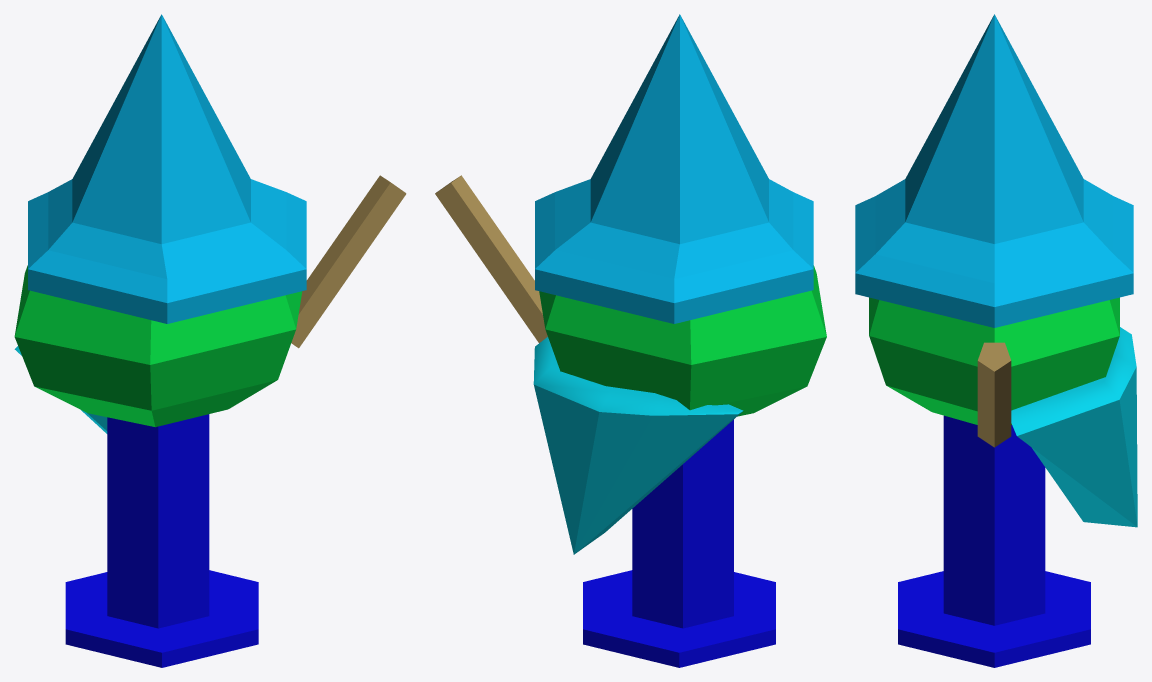
Rendered from magical potatoe statue.fbx.
3 views of the same model, side by side, from view 1: azimuth 30°, elevation 25°; view 2: azimuth 150°, elevation 25°; view 3: azimuth 270°, elevation 25° (orthographic).
Visible parts, largest first — view 1: pCone2, hat1, pasted__pasted__pasted__pasted__stick1, pasted__pasted__pasted__pasted__stick, pCylinder7; view 2: pCone2, hat1, pCone3, pasted__pasted__pasted__pasted__stick1, pasted__pasted__pasted__pasted__stick, pCylinder7; view 3: pCone2, hat1, pasted__pasted__pasted__pasted__stick1, pCone3, pasted__pasted__pasted__pasted__stick, pCylinder7.
Boxes of the visible parts, x1,y1,x2,y2 form: pCone2: (28, 14, 306, 323); hat1: (14, 265, 302, 427); pasted__pasted__pasted__pasted__stick1: (107, 414, 209, 628); pasted__pasted__pasted__pasted__stick: (65, 570, 258, 667); pCylinder7: (291, 175, 406, 348); pCone2: (535, 14, 813, 323); hat1: (539, 265, 826, 416); pCone3: (533, 337, 743, 554); pasted__pasted__pasted__pasted__stick1: (632, 419, 733, 628); pasted__pasted__pasted__pasted__stick: (583, 570, 775, 667); pCylinder7: (435, 175, 547, 342); pCone2: (855, 14, 1133, 327); hat1: (869, 297, 1119, 424); pasted__pasted__pasted__pasted__stick1: (943, 415, 1045, 625); pCone3: (1011, 327, 1137, 527); pasted__pasted__pasted__pasted__stick: (898, 571, 1090, 667); pCylinder7: (977, 342, 1011, 447).
Bounding box in the file's own units: 4.39 × 6.5 × 2.74.
